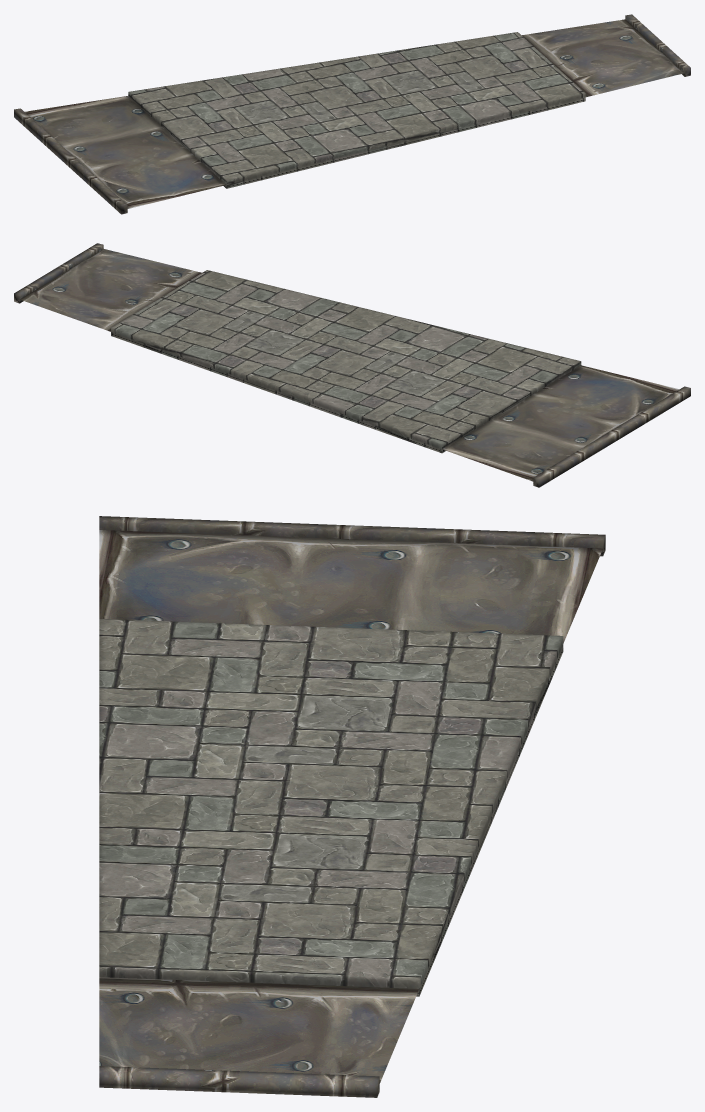
The model's file is Path2.fbx.
3 renders of one model, top to bottom at view 1: azimuth 30°, elevation 25°; view 2: azimuth 150°, elevation 25°; view 3: azimuth 270°, elevation 25°, orthographic. The views are drawn at different scales.
Parts seen in each view (by area): view 1: Cube; view 2: Cube; view 3: Cube.
Part boxes in pixels (bbox=[...]): Cube: bbox=[14, 14, 690, 214]; Cube: bbox=[14, 243, 690, 487]; Cube: bbox=[99, 516, 605, 1097].
Bounding box in the file's own units: 9.53 × 0.1229 × 3.6.
